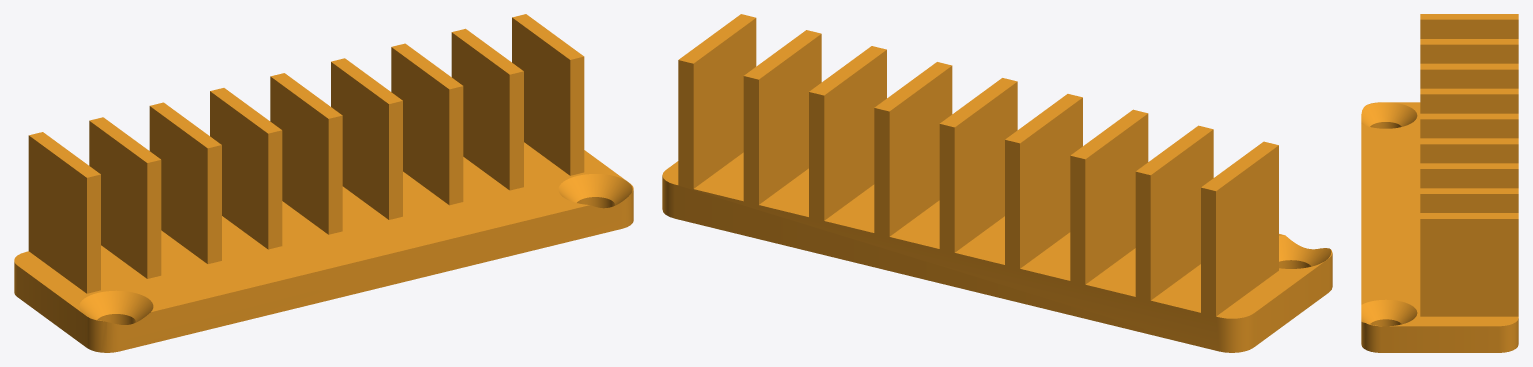
The model's file is peine_cables_8.fbx.
3 renders of one model, left to right at view 1: azimuth 30°, elevation 25°; view 2: azimuth 150°, elevation 25°; view 3: azimuth 270°, elevation 25°, orthographic. The views are drawn at different scales.
Parts seen in each view (by area): view 1: peine_cables_8; view 2: peine_cables_8; view 3: peine_cables_8.
Boxes of the visible parts, box(x1,y1,x2,y2) form: peine_cables_8: box(14, 14, 633, 352); peine_cables_8: box(662, 14, 1332, 352); peine_cables_8: box(1361, 14, 1518, 352).
Bounding box in the file's own units: 0.054 × 0.014 × 0.016.
